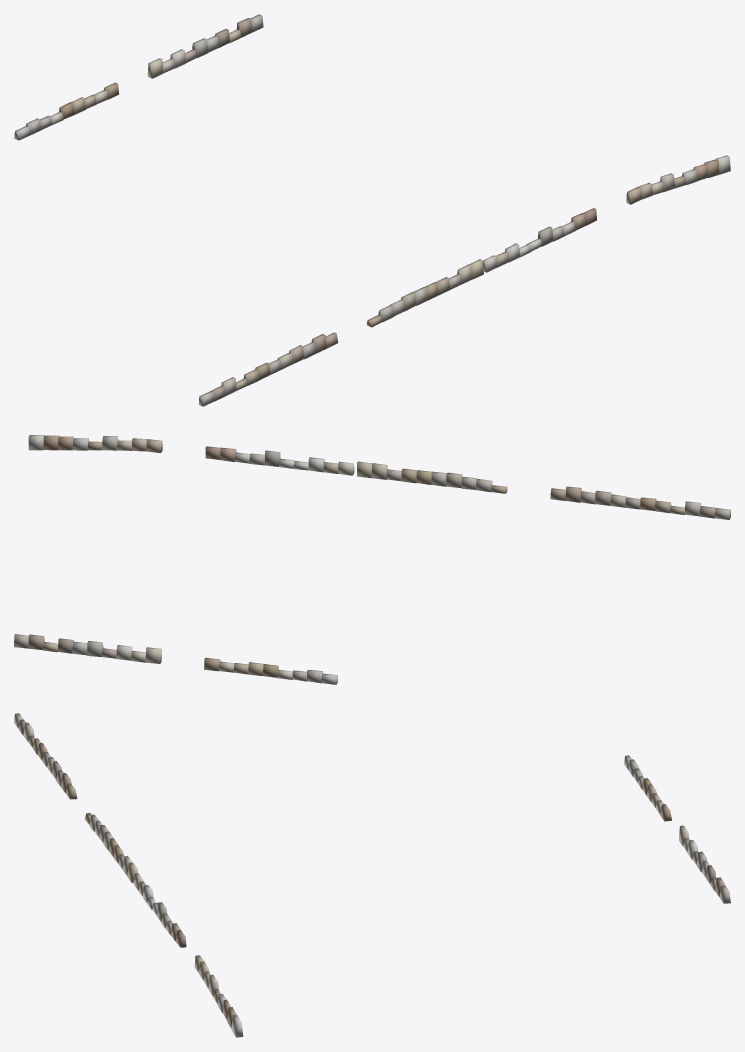
The model's file is farm_-32_-38_far.glb.
3 views of the same model, one above another, from view 1: azimuth 30°, elevation 25°; view 2: azimuth 150°, elevation 25°; view 3: azimuth 270°, elevation 25° (orthographic). The views are drawn at different scales.
Parts seen in each view (by area): view 1: geometry_0; view 2: geometry_0; view 3: geometry_0.
Part boxes in pixels (x1,y1,x2,y2): geometry_0: (14,14,730,406); geometry_0: (14,435,730,684); geometry_0: (14,713,730,1037).
Size of the model in its own units: 70.88 by 3.71 by 68.15.
